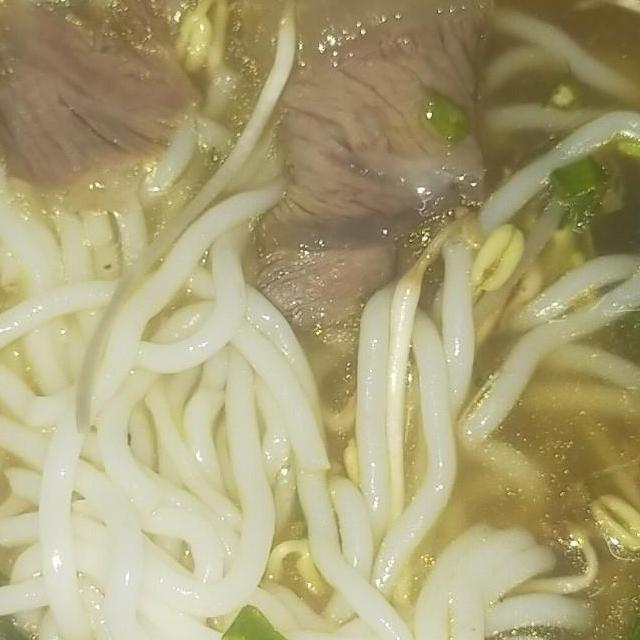bun: (0, 266, 640, 640), (461, 0, 640, 362)
bun bo: (0, 0, 640, 640)
thit bo: (205, 0, 518, 354), (0, 0, 230, 227)
